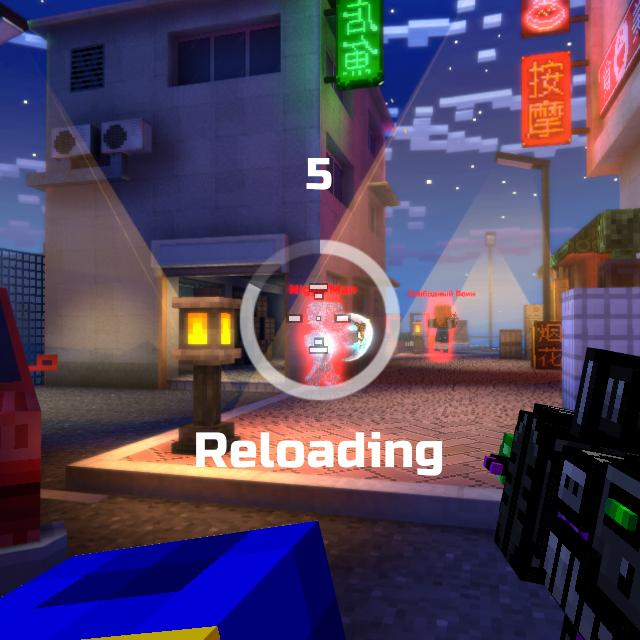Enemy: (304, 302, 358, 386), (428, 305, 458, 353)
